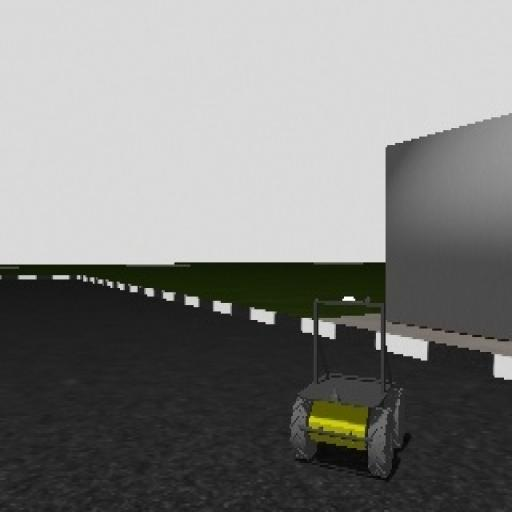huskya200: (272, 282, 407, 478)
